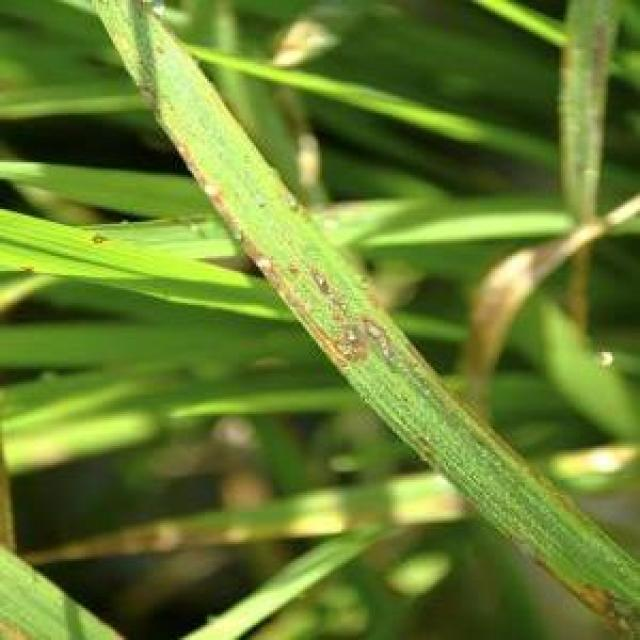Blast: (333, 322, 388, 356), (258, 250, 288, 282), (202, 180, 226, 198)
